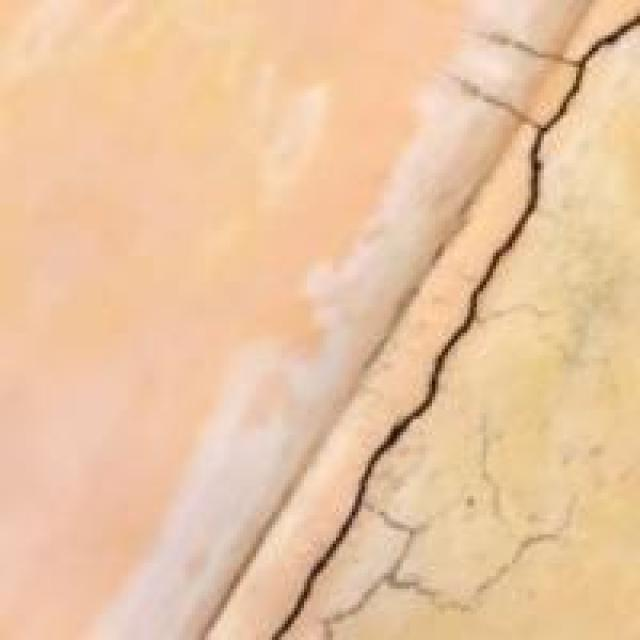Crack: (275, 9, 637, 636)
